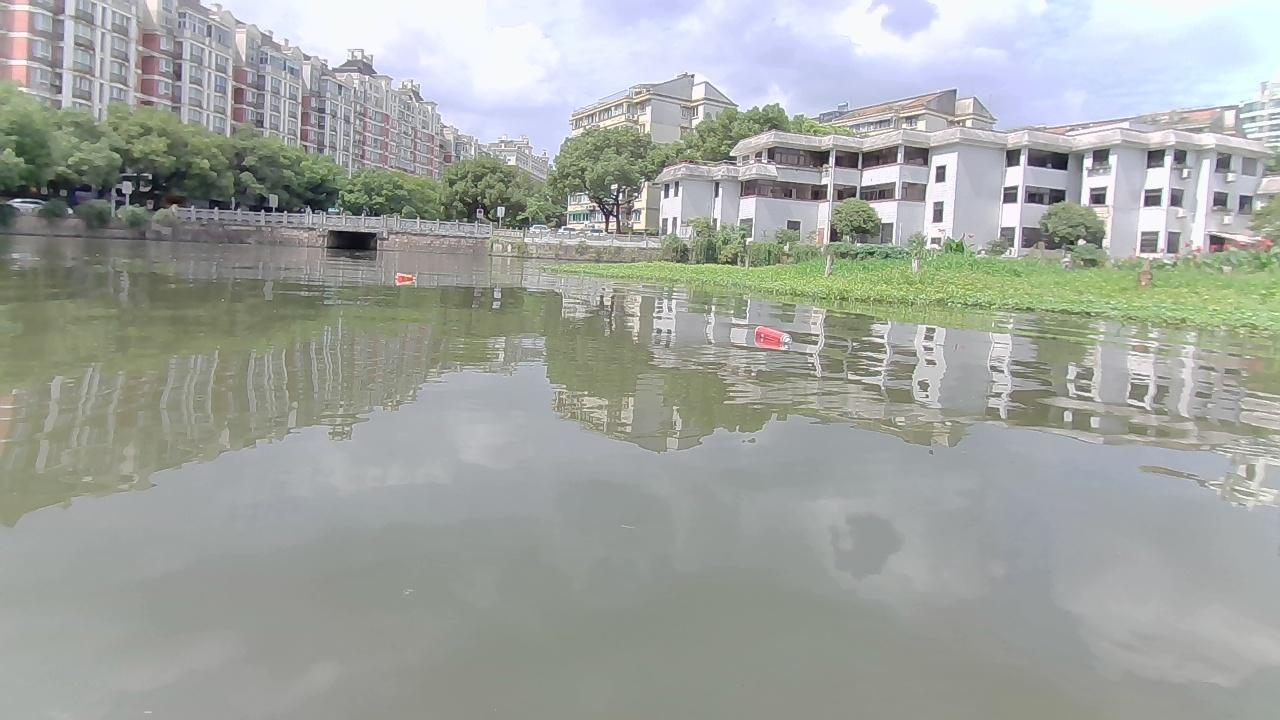bottle: (754, 324, 792, 342), (394, 272, 416, 280)
